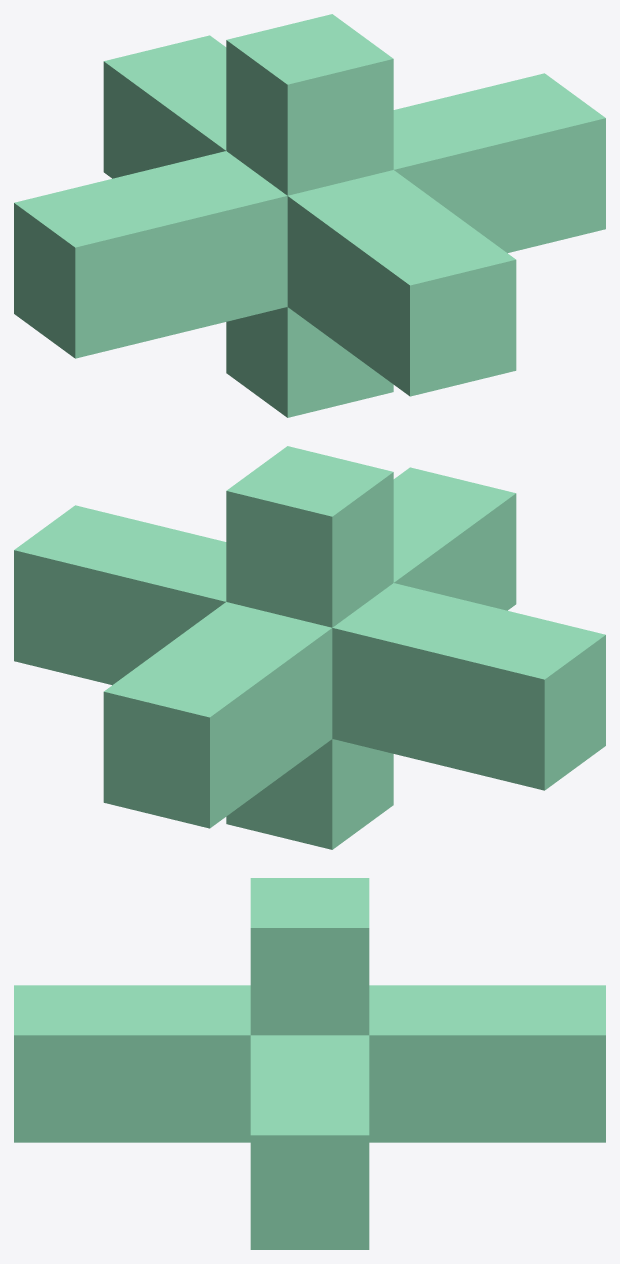
File: bullet_chthonic_angel.fbx
The picture shows the model from 3 angles, top to bottom: view 1: azimuth 30°, elevation 25°; view 2: azimuth 150°, elevation 25°; view 3: azimuth 270°, elevation 25°; orthographic projection. The views are drawn at different scales.
Visible parts, largest first — view 1: bullet_chthonic_angel.001; view 2: bullet_chthonic_angel.001; view 3: bullet_chthonic_angel.001.
Boxes of the visible parts, bbox=[...] form: bullet_chthonic_angel.001: bbox=[14, 14, 605, 417]; bullet_chthonic_angel.001: bbox=[14, 446, 605, 849]; bullet_chthonic_angel.001: bbox=[14, 878, 605, 1249].
Size of the model in its own units: 0.5 by 0.3 by 0.5.
1 material, 1 textured.
